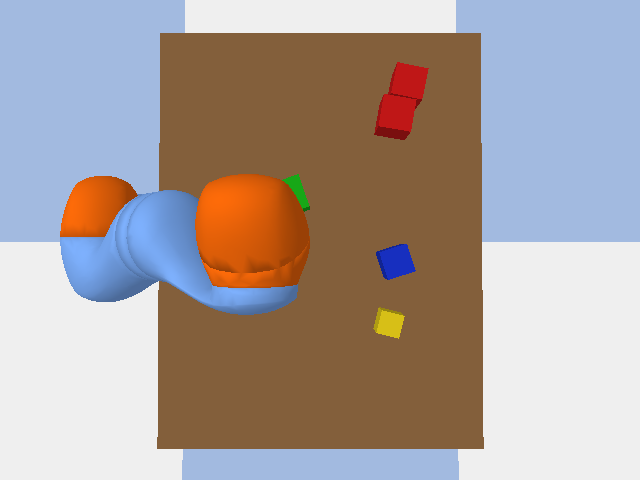blue_obj: (376, 244, 415, 279)
green_obj: (282, 174, 309, 211)
red_obj: (374, 94, 416, 139), (388, 62, 428, 108)
yellow_obj: (373, 307, 404, 338)
